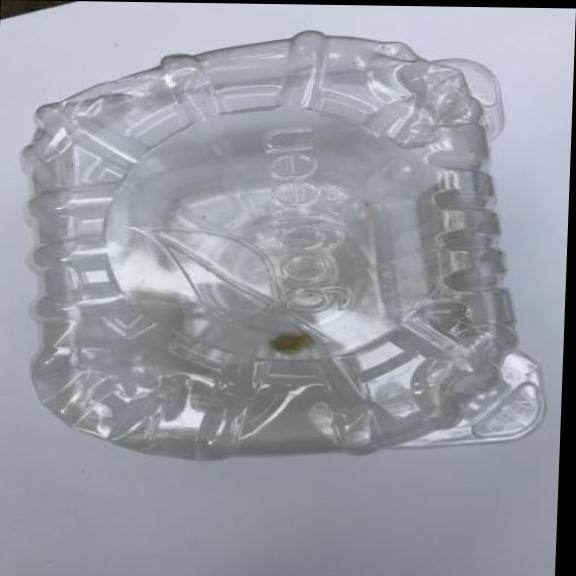Plastik: (1, 18, 563, 470)
